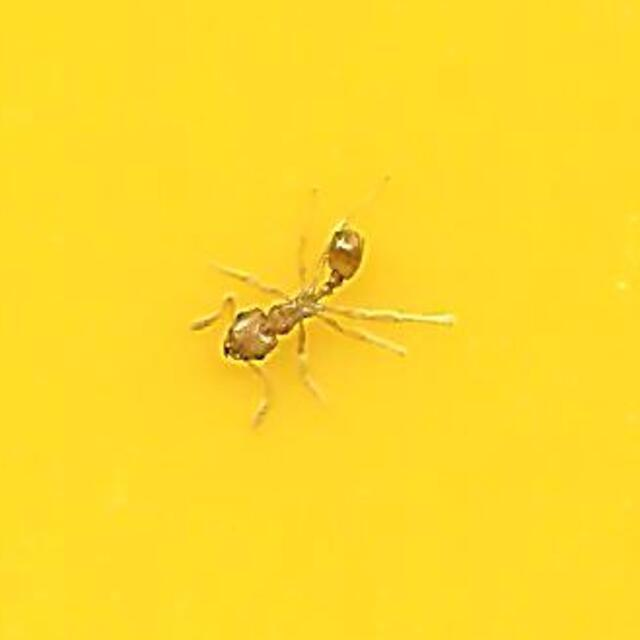Hymenoptera: (195, 211, 445, 429)
